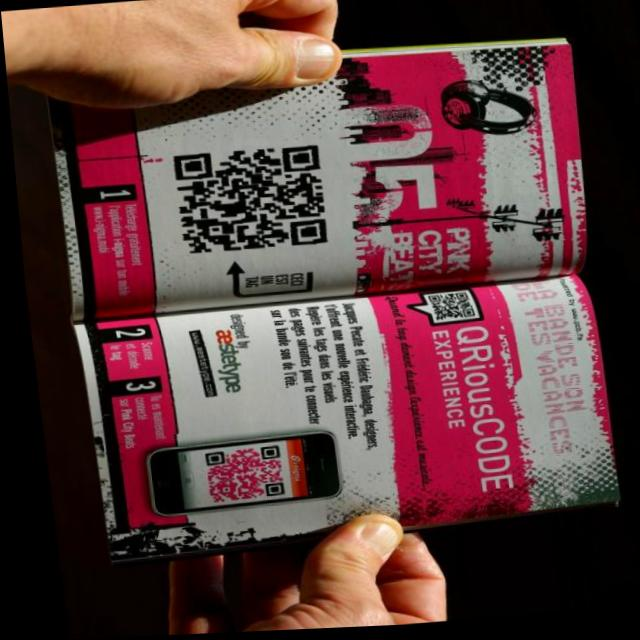qrcode: (170, 148, 325, 256), (195, 449, 275, 505), (421, 296, 469, 326)
